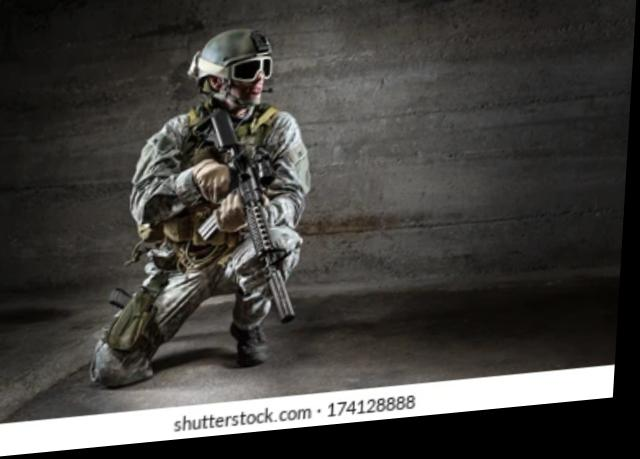other: (124, 29, 321, 384)
